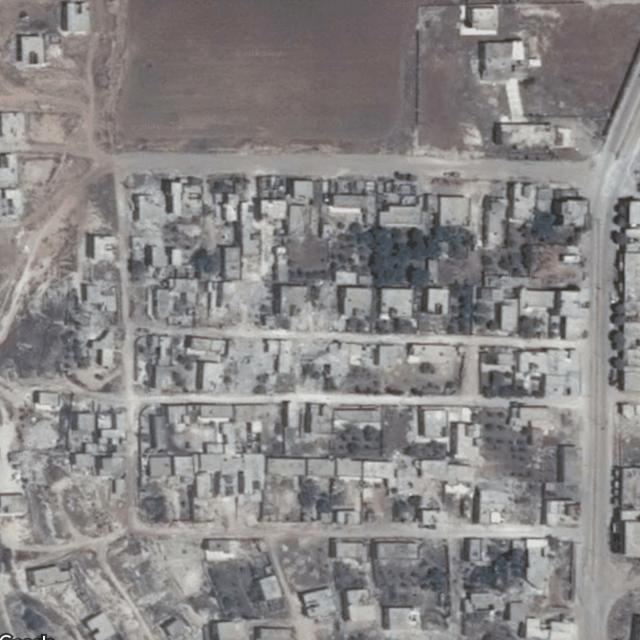damaged_building: (296, 280, 345, 332), (228, 339, 273, 392), (234, 278, 272, 326), (292, 337, 330, 367)
